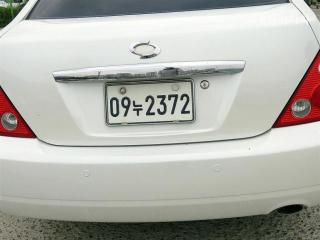0: (109, 96, 121, 118)
2: (179, 92, 191, 116), (144, 94, 156, 117)
3: (156, 93, 168, 116)
7: (167, 92, 180, 116)
9: (120, 96, 131, 118)
누: (132, 99, 145, 118)
